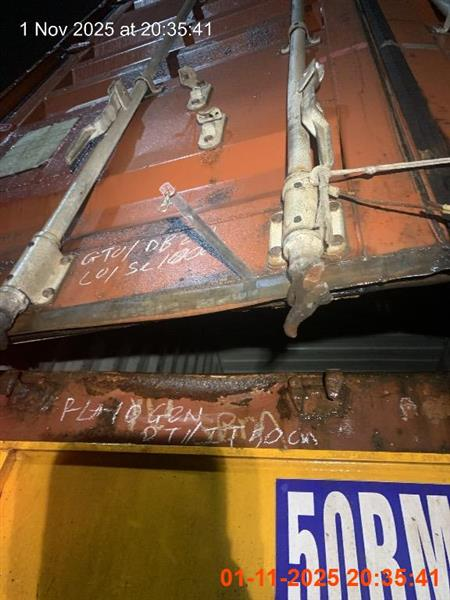dent: (0, 0, 448, 351)
